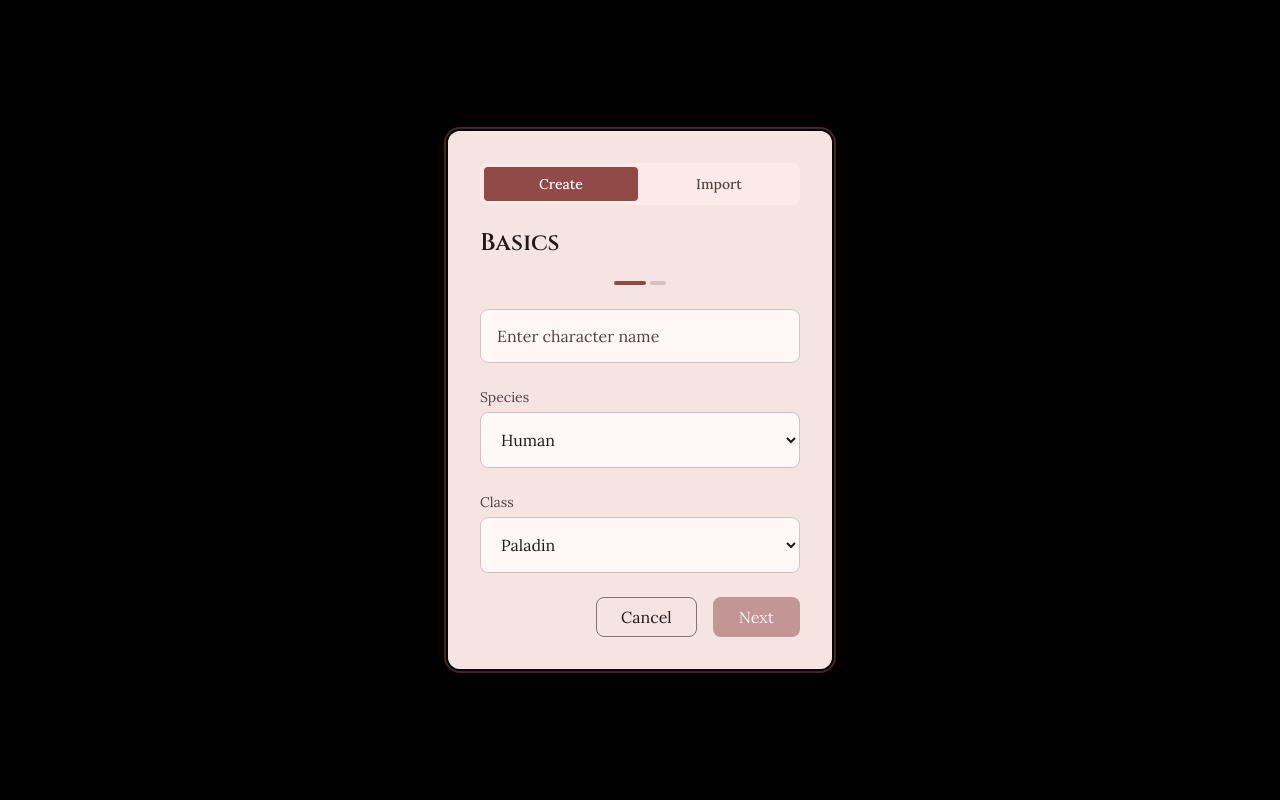
it: CreateCharacterDialog › mode switching › switches to import mode when Import tab is clicked
expect the field with placeholder "Enter character name" is shown: met, box [480,309,800,363]
Click the tab "Import" at (719, 184), box [642,167,796,201]
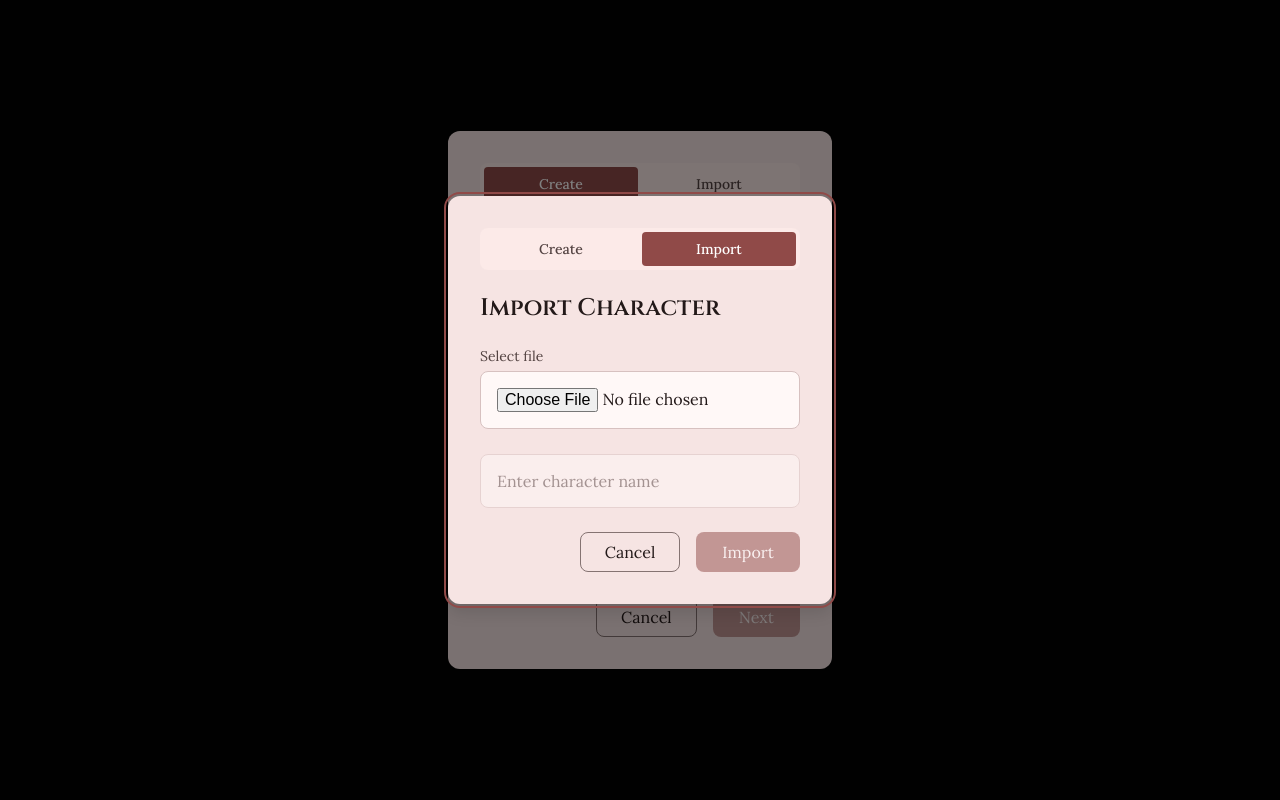
expect the file field labelled "Select file" is shown: met, box [480,371,800,429]
